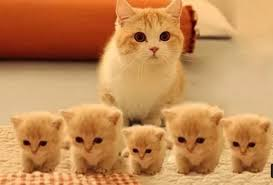cat: (106, 1, 194, 69)
